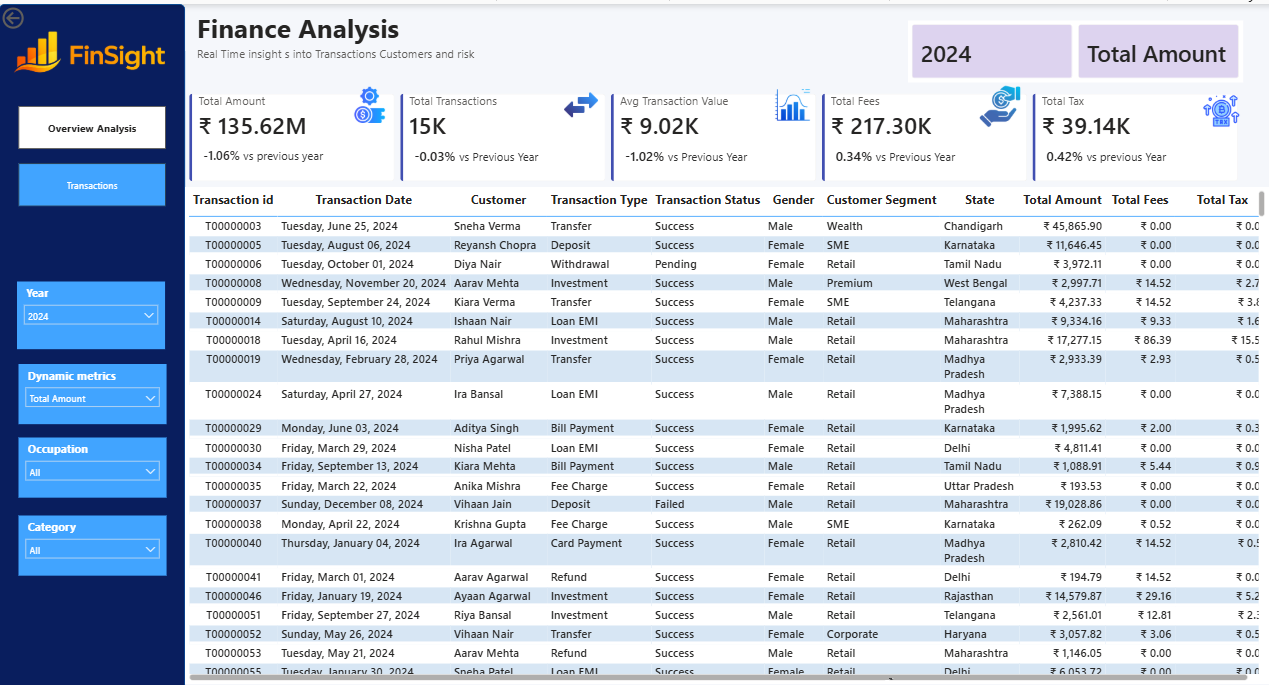

The dashboard page shown, as its layout file describes it:
{"tool":"powerbi","page":{"name":"Transactions","canvas":[1800,980],"ordinal":1},"visuals":[{"type":"shape","box":[0,0,264.1,980.7],"z":0},{"type":"cardVisual","fields":{"Data":["calendra table.Dashboard title"]},"box":[264.1,0,636.5,88.8],"z":1000},{"type":"cardVisual","fields":{"Data":["finance_transactions_cleaned.Total Amount","finance_transactions_cleaned.Total Transactions","finance_transactions_cleaned.Avg Transaction Value","finance_transactions_cleaned.Total Fees","finance_transactions_cleaned.Total Tax"]},"box":[263.4,122,1502.4,136.6],"z":2000},{"type":"image","box":[12.2,4.9,236.6,129.3],"z":3000},{"type":"image","box":[500,112.2,51.2,61],"z":4000},{"type":"image","box":[800,112.2,51.2,61],"z":5000},{"type":"image","box":[1390.2,114.6,61,61],"z":6000},{"type":"image","box":[1100,112.2,51.2,61],"z":7000},{"type":"image","box":[1702.4,122,63.4,61],"z":8000},{"type":"shape","box":[270.7,258.5,1529.3,704.9],"z":9000},{"type":"cardVisual","fields":{"Data":["finance_transactions_cleaned.selected year","finance_transactions_cleaned.selected Dynamic meassure"]},"box":[1290.2,24.4,475.6,87.8],"z":10000},{"type":"tableEx","fields":{"Values":["finance_transactions_cleaned.transaction_id","finance_transactions_cleaned.transaction_date","customers_cleaned.full_name","finance_transactions_cleaned.transaction_type","finance_transactions_cleaned.transaction_status","customers_cleaned.gender","customers_cleaned.customer_segment","customers_cleaned.state","finance_transactions_cleaned.Total Amount","finance_transactions_cleaned.Total Fees","finance_transactions_cleaned.Total Tax"]},"box":[263.4,258.5,1536.6,704.9],"z":11000},{"type":"actionButton","box":[0,0,100,40],"z":12000},{"type":"slicer","fields":{"Values":["calendra table.year"]},"box":[26.6,393.3,209.9,95.7],"z":13000},{"type":"slicer","fields":{"Values":["Dynamic metrics.Dynamic metrics"]},"box":[26.8,509.8,209.8,85.4],"z":14000},{"type":"slicer","fields":{"Values":["customers_cleaned.occupation"]},"box":[26.8,614.6,209.8,85.4],"z":15000},{"type":"slicer","fields":{"Values":["finance_transactions_cleaned.merchant_category"]},"box":[26.8,724.4,209.8,85.4],"z":16000},{"type":"pageNavigator","box":[26.8,143.9,209.8,143.9],"z":17000}]}

Visuals, with their boxes on the page's 1800x980 design canvas (x1, y1, x2, y2). These are canvas units, not pixel positions in the 1269x685 screenshot, which may show the page scaled, cropped or inside an application window:
shape: <bbox>0, 0, 264, 981</bbox>
cardVisual - calendra table.Dashboard title: <bbox>264, 0, 901, 89</bbox>
cardVisual - finance_transactions_cleaned.Total Amount x finance_transactions_cleaned.Total Transactions: <bbox>263, 122, 1766, 259</bbox>
image: <bbox>12, 5, 249, 134</bbox>
image: <bbox>500, 112, 551, 173</bbox>
image: <bbox>800, 112, 851, 173</bbox>
image: <bbox>1390, 115, 1451, 176</bbox>
image: <bbox>1100, 112, 1151, 173</bbox>
image: <bbox>1702, 122, 1766, 183</bbox>
shape: <bbox>271, 258, 1800, 963</bbox>
cardVisual - finance_transactions_cleaned.selected year x finance_transactions_cleaned.selected Dynamic meassure: <bbox>1290, 24, 1766, 112</bbox>
tableEx - finance_transactions_cleaned.transaction_id x finance_transactions_cleaned.transaction_date: <bbox>263, 258, 1800, 963</bbox>
actionButton: <bbox>0, 0, 100, 40</bbox>
slicer - calendra table.year: <bbox>27, 393, 236, 489</bbox>
slicer - Dynamic metrics.Dynamic metrics: <bbox>27, 510, 237, 595</bbox>
slicer - customers_cleaned.occupation: <bbox>27, 615, 237, 700</bbox>
slicer - finance_transactions_cleaned.merchant_category: <bbox>27, 724, 237, 810</bbox>
pageNavigator: <bbox>27, 144, 237, 288</bbox>
